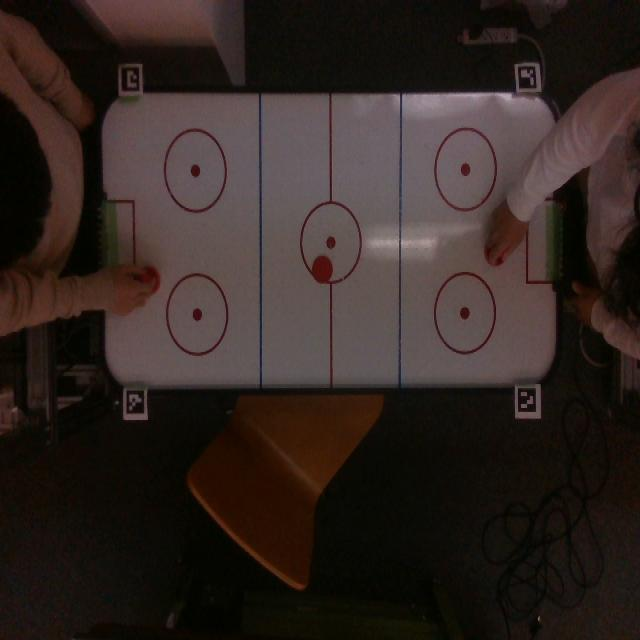puck: (312, 256, 333, 284)
